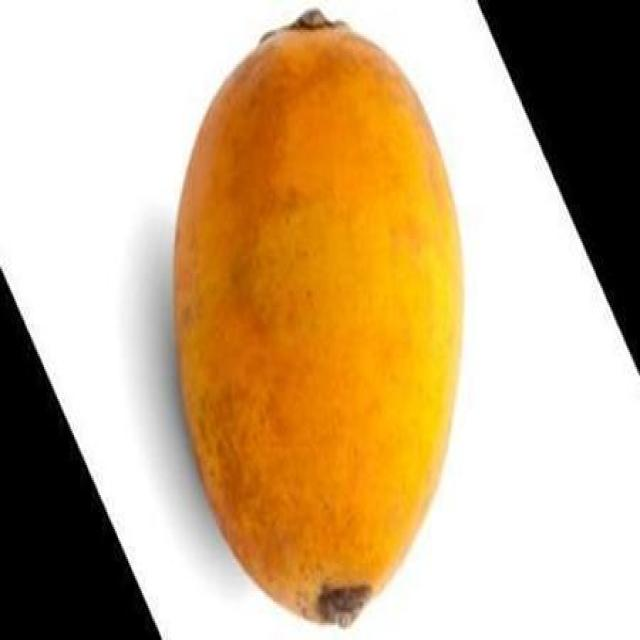good: (172, 11, 468, 629)
